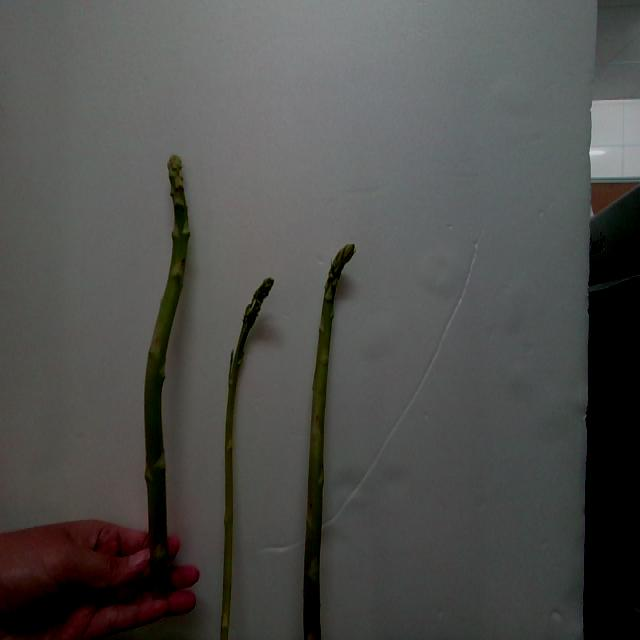aspargus: (144, 157, 193, 598), (303, 245, 356, 640), (218, 279, 274, 640)
